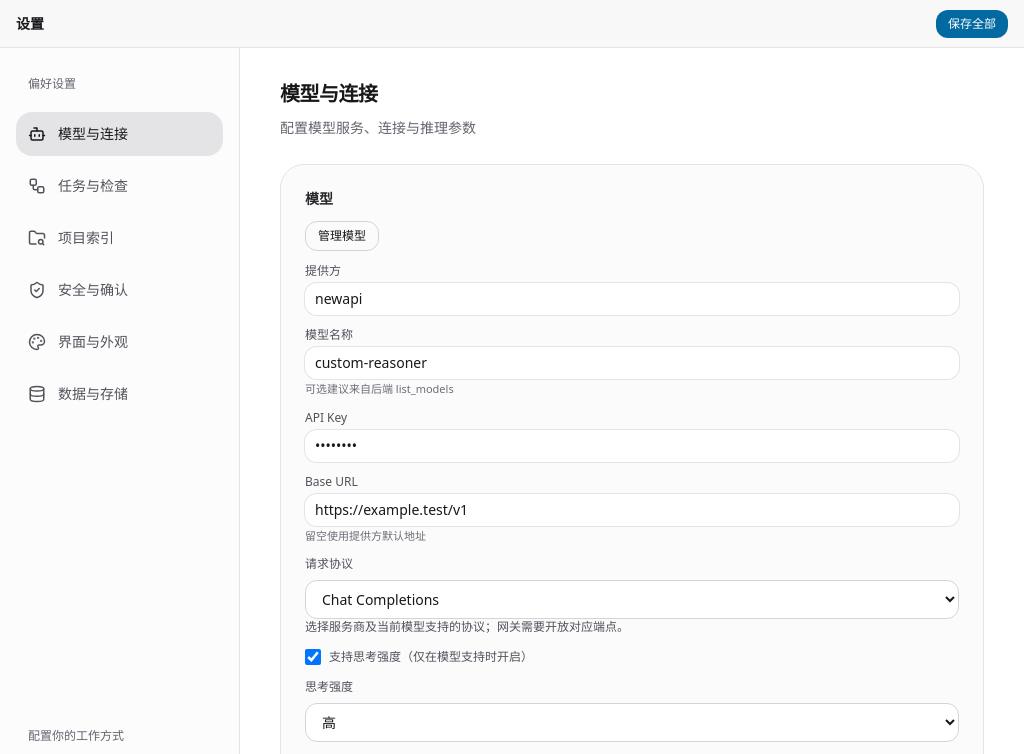
Test: model settings across both entry points › opens the category containing a validation error when saving from another category
Expected: the button "保存全部" is enabled, [936,10,1008,38]
Step 1. Click the button "项目索引" → (120,238), box [16,216,223,260]
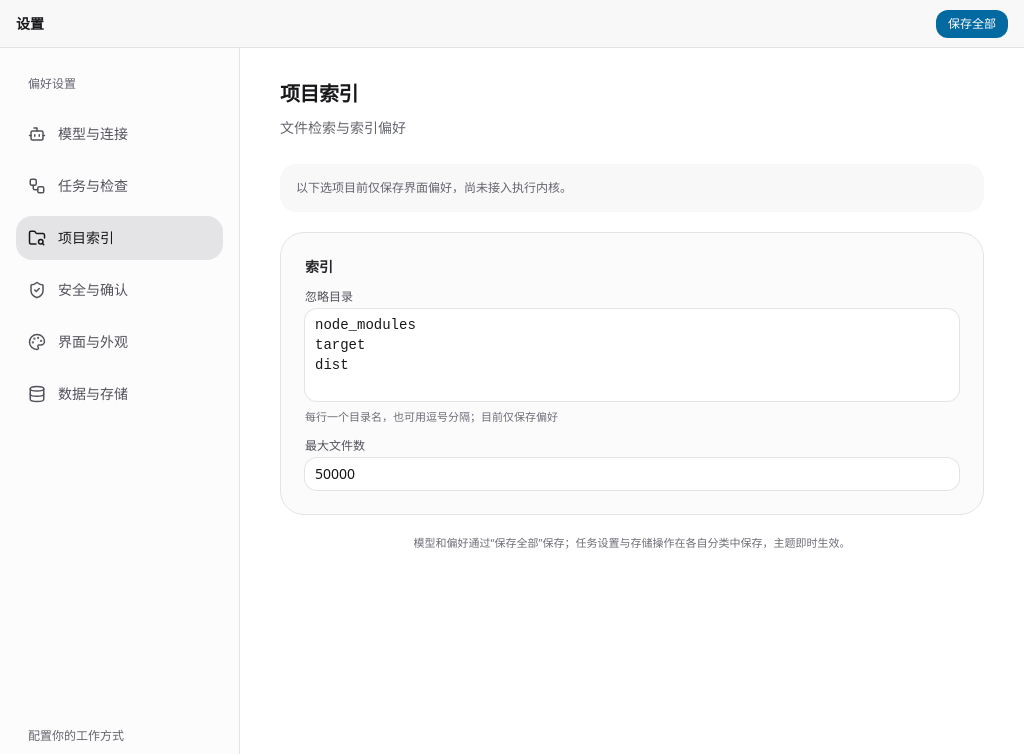
Step 2. Replace the text in the number field labelled "最大文件数" with "0" → (632,474), box [305,458,959,490]
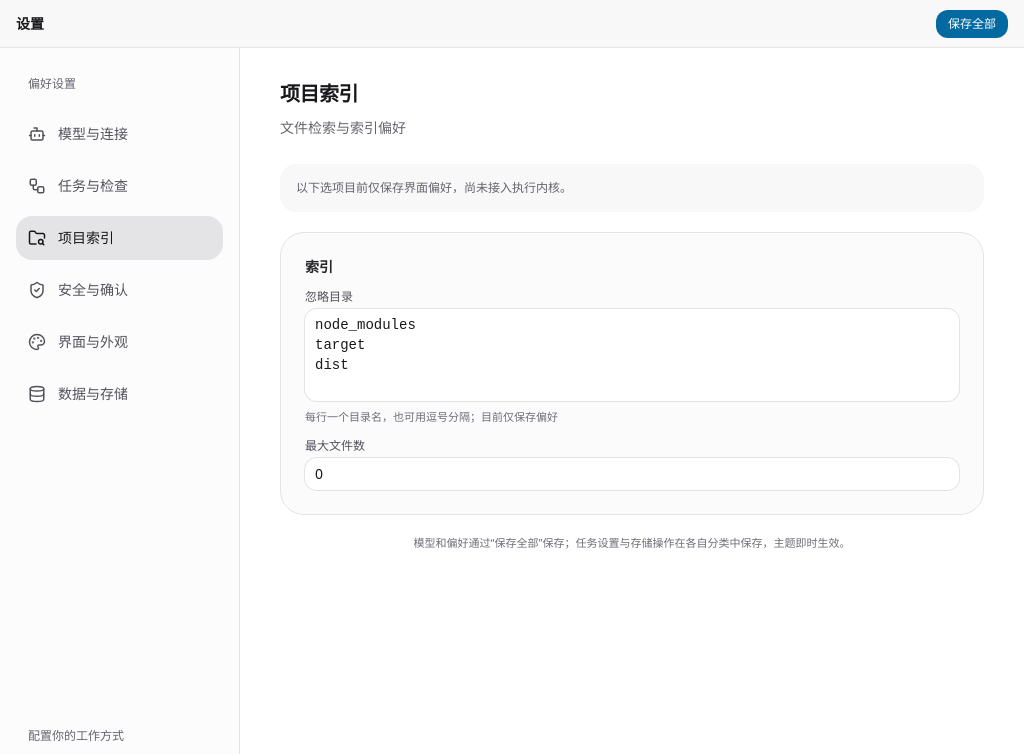
Step 3. Click the button "界面与外观" → (120,342), box [16,320,223,364]
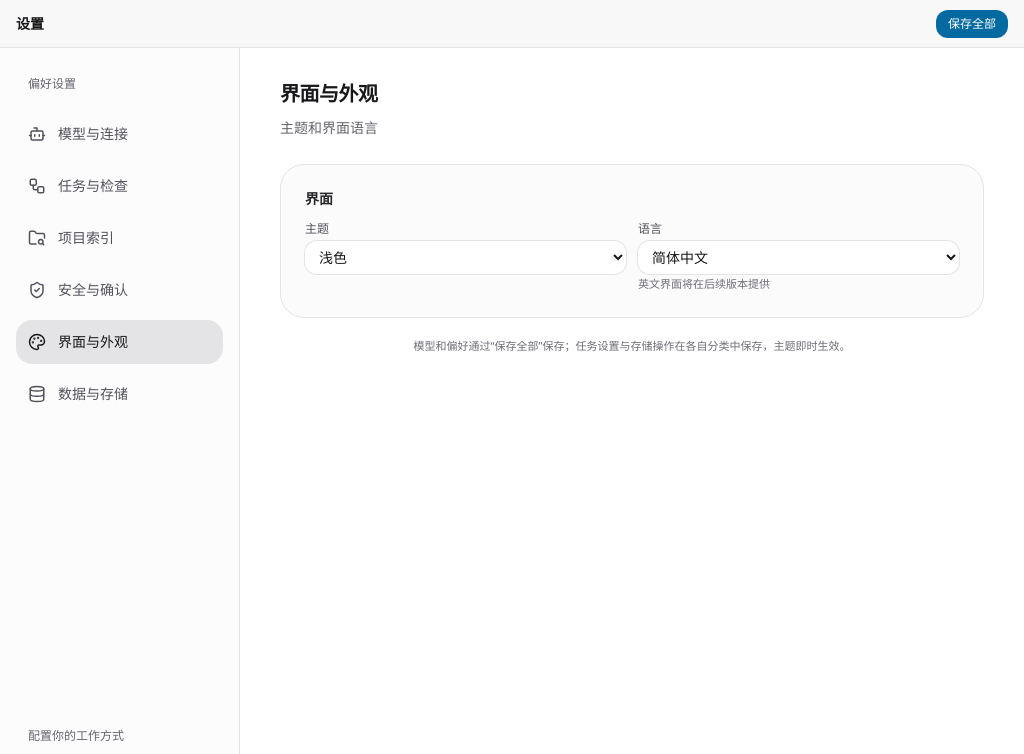
Step 4. Click the button "保存全部" → (972,24), box [936,10,1008,38]
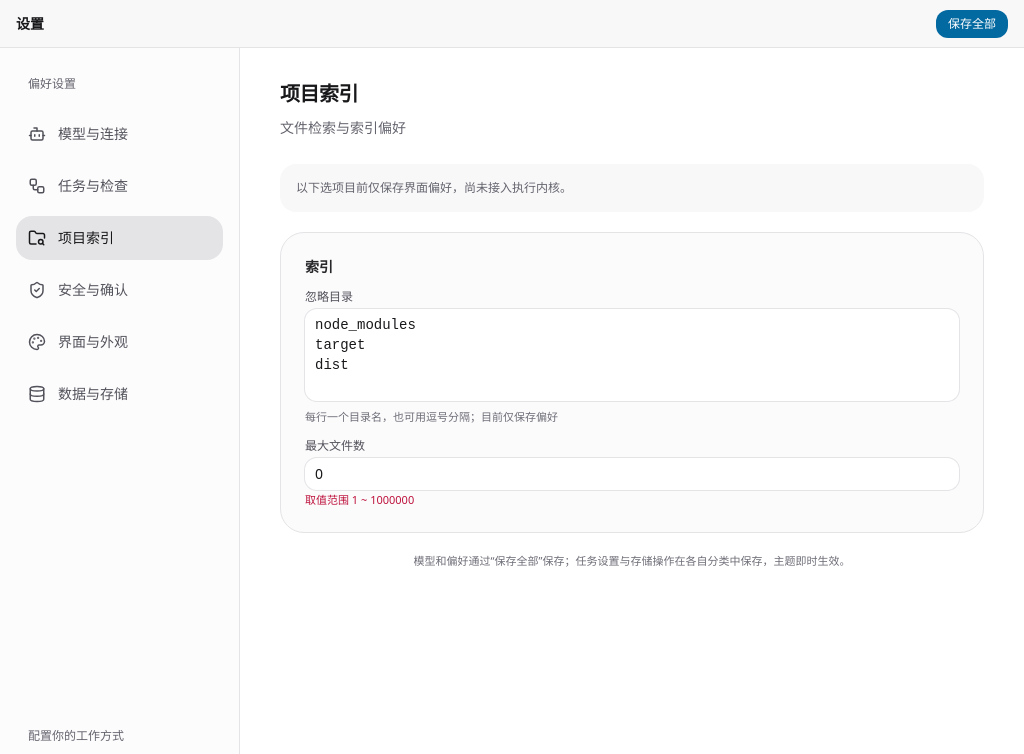
Expected: the text "取值范围 1 ~ 1000000" is shown, [305,492,414,506]
